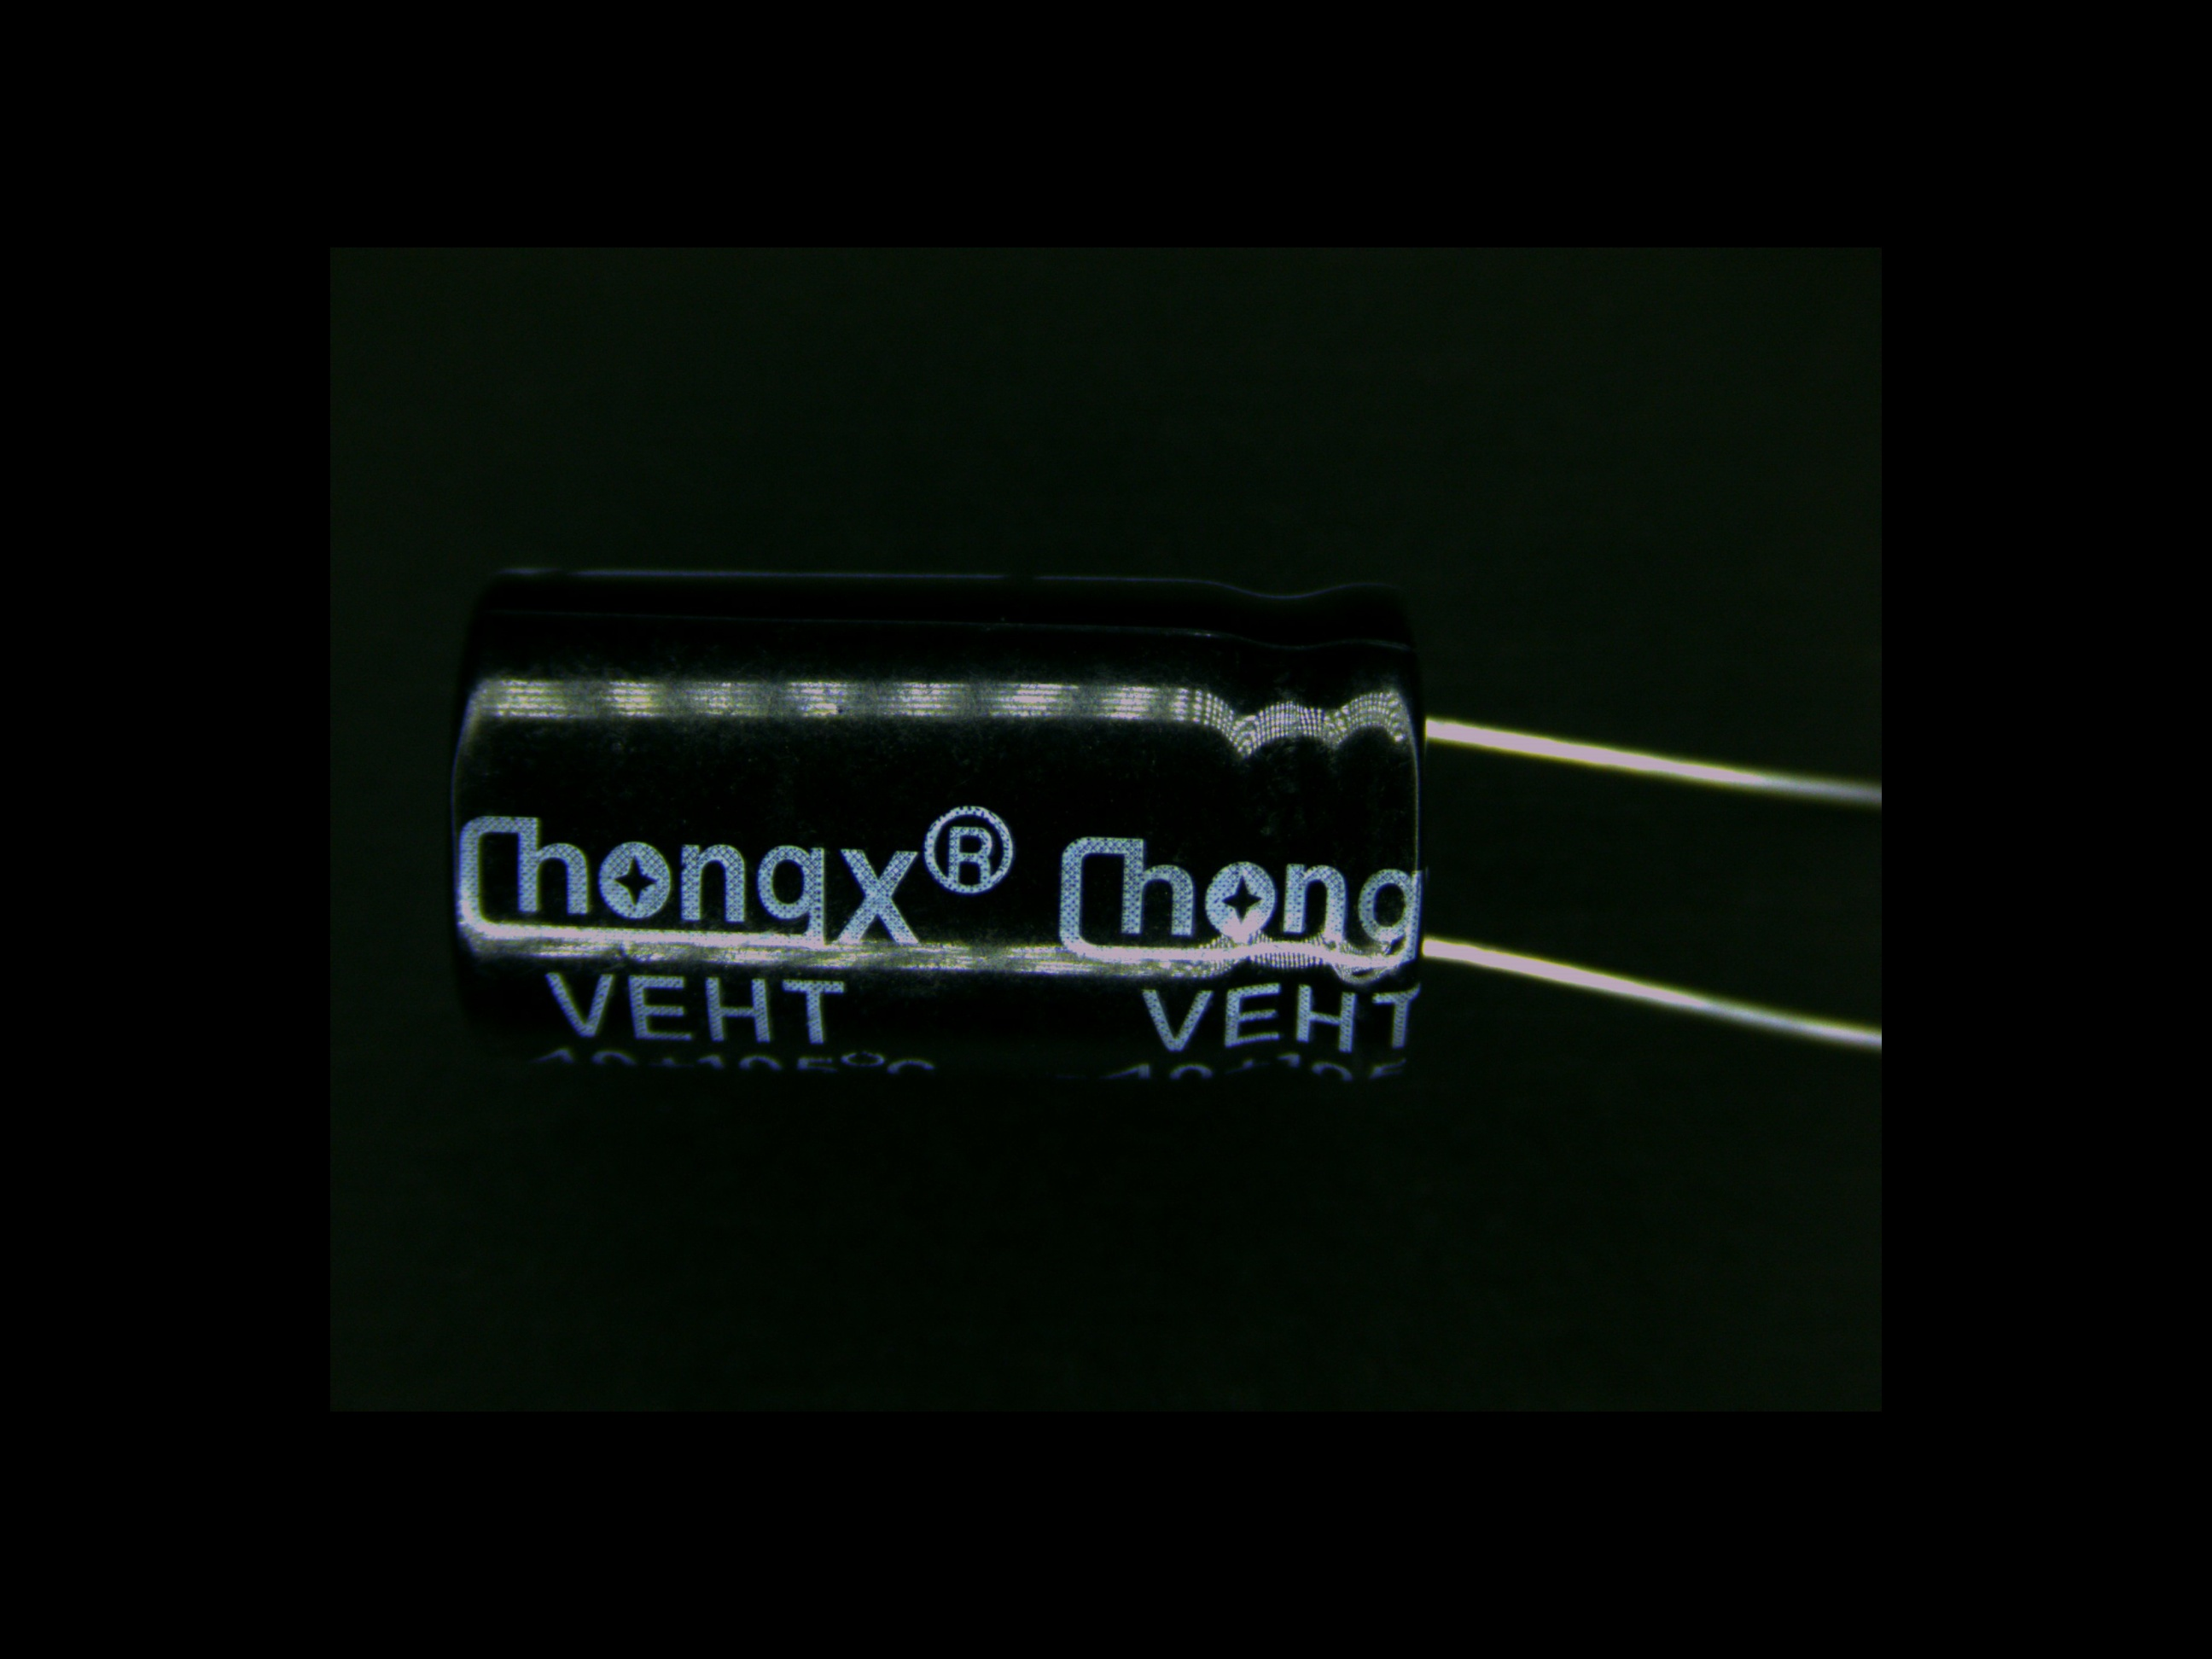c3: (441, 566, 1606, 1089)
